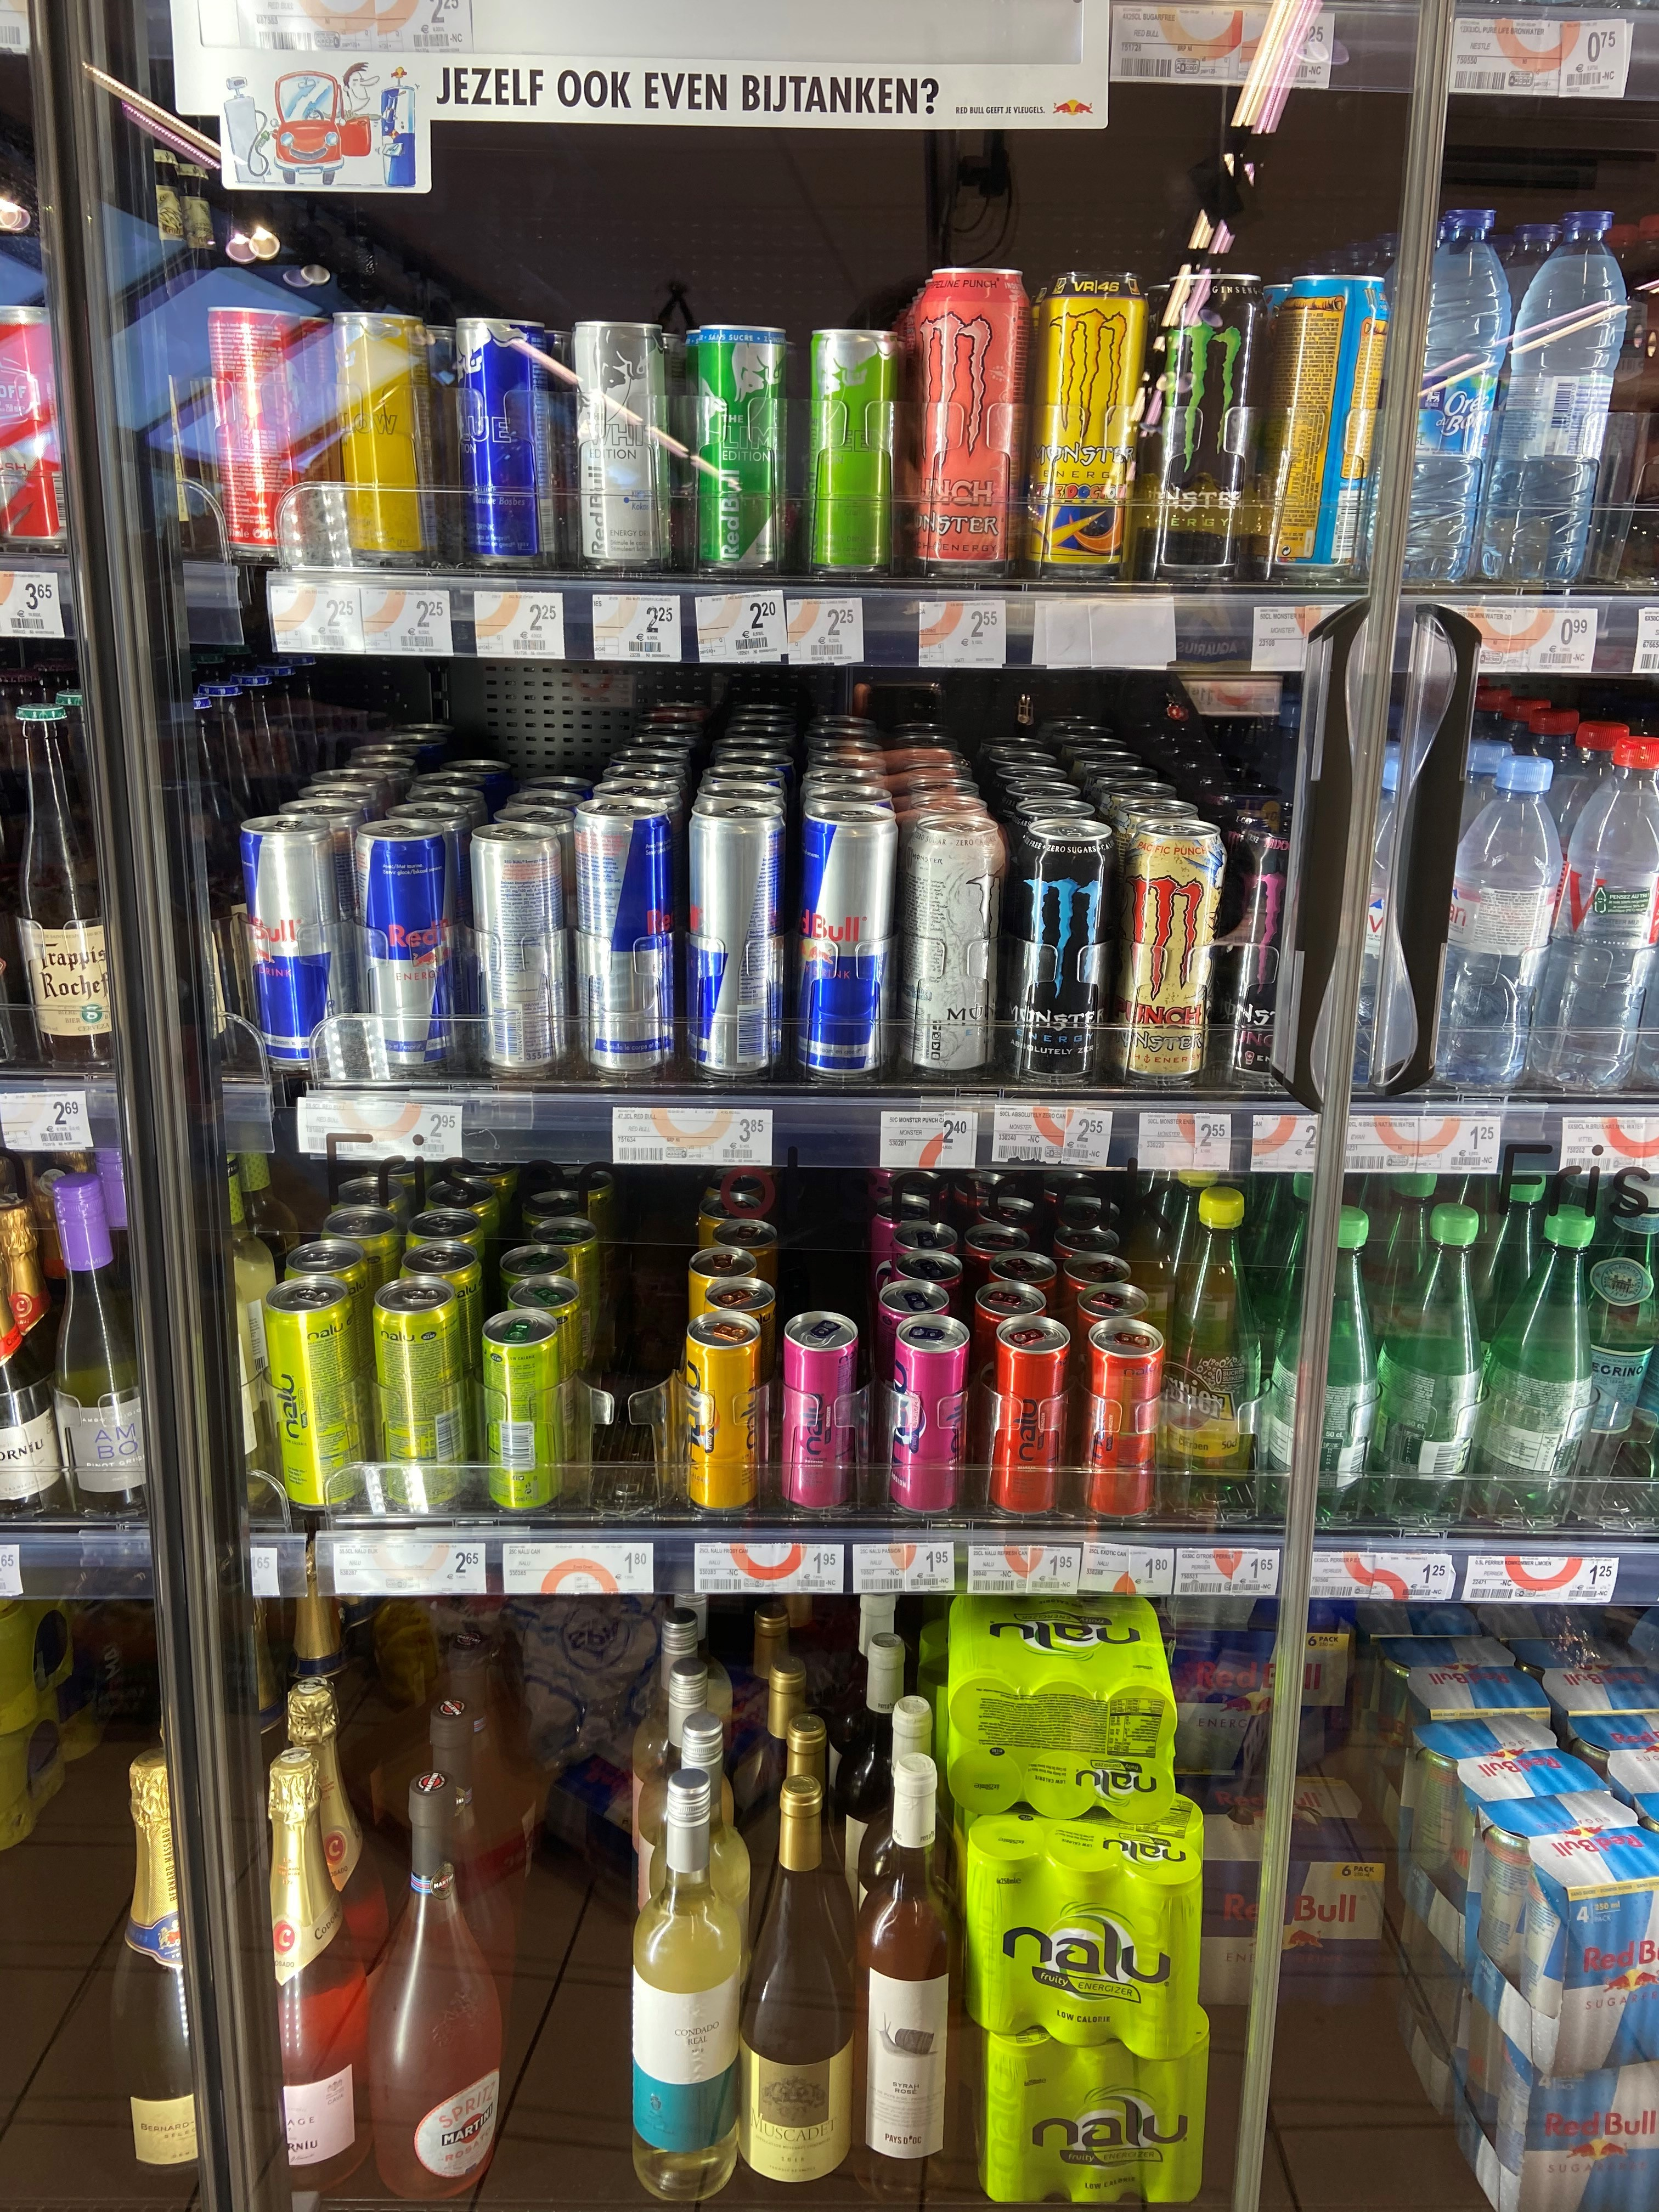Ambo: (47, 1170, 159, 1521)
BernardMassard: (105, 1747, 237, 2179)
CodorniuRosado: (230, 1743, 366, 2195)
CondadoReal: (629, 1766, 741, 2203)
Delhaize: (1403, 199, 1514, 597)
EvianOriginal50cl: (1431, 754, 1570, 1094), (1337, 754, 1448, 1097)
Martini: (364, 1773, 505, 2207)
MonsterAbsolutelyZero500ml: (1002, 817, 1124, 1082)
MonsterMangoLoco500ml: (1272, 275, 1391, 587)
MonsterOriginal500ml: (1148, 273, 1269, 575)
MonsterPacificPunch: (1105, 819, 1230, 1083)
MonsterPipelinePunch500ml: (918, 266, 1032, 580)
MonsterPunchEnergy500ml: (1220, 812, 1347, 1087)
MonsterTheDoctor500ml: (1037, 273, 1150, 573)
MonsterUltra: (903, 815, 1011, 1076)
Muscadet: (735, 1777, 857, 2207)
NaluExotic250ml: (681, 1310, 765, 1515)
NaluOriginal250ml: (477, 1306, 568, 1515)
NaluOriginal350ml: (258, 1271, 361, 1512), (369, 1277, 464, 1521)
NaluOriginal6x350ml: (964, 1782, 1204, 2048), (967, 2003, 1209, 2203), (948, 1595, 1176, 1808)
NaluPassion250ml: (887, 1315, 971, 1517), (782, 1310, 863, 1514)
NaluRefresh250ml: (1082, 1318, 1169, 1519), (985, 1317, 1072, 1514)
PerrierCitroen: (1157, 1181, 1270, 1500)
PerrierOriginal: (1481, 1200, 1595, 1526), (1265, 1204, 1382, 1515), (1373, 1202, 1488, 1517)
RedBullBlue: (451, 315, 551, 571)
RedBullGreen: (810, 329, 906, 580)
RedBullLime: (694, 324, 791, 580)
RedBullOriginalBlik355ml: (239, 812, 343, 1076), (352, 820, 450, 1075), (467, 824, 563, 1069)
RedBullOriginalBlik473ml: (791, 805, 904, 1082), (681, 799, 788, 1080), (572, 796, 674, 1080)
RedBullOriginalBlik6x250ml: (1166, 1775, 1387, 2008)
RedBullRed: (204, 307, 307, 566)
RedBullSugarFree4x250ml: (1476, 1796, 1659, 2074), (1453, 2015, 1659, 2210)
RedBullWhite: (572, 319, 666, 575)
RedBullYellow: (328, 312, 436, 580)
Rochefort: (9, 698, 124, 1080)
SyrahRose: (849, 1752, 971, 2207)
VittelWater50cl: (1535, 732, 1659, 1090)
__UNKNOWN: (1507, 202, 1629, 589)
